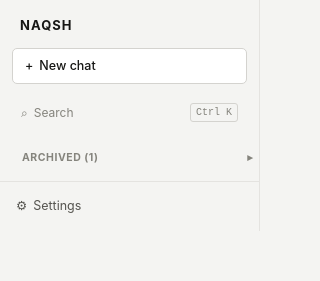
Test case: ChatSidebar › reveals an archived thread on expanding the Archived section
Click the button "Archived (1) ▸": {"x": 138, "y": 158} [16,149,259,167]
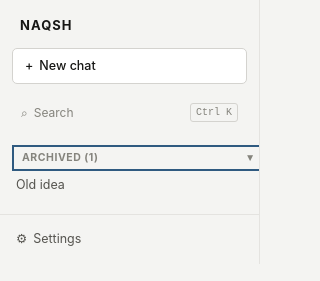
Now the text "Old idea" is shown, box [16,176,65,195]
